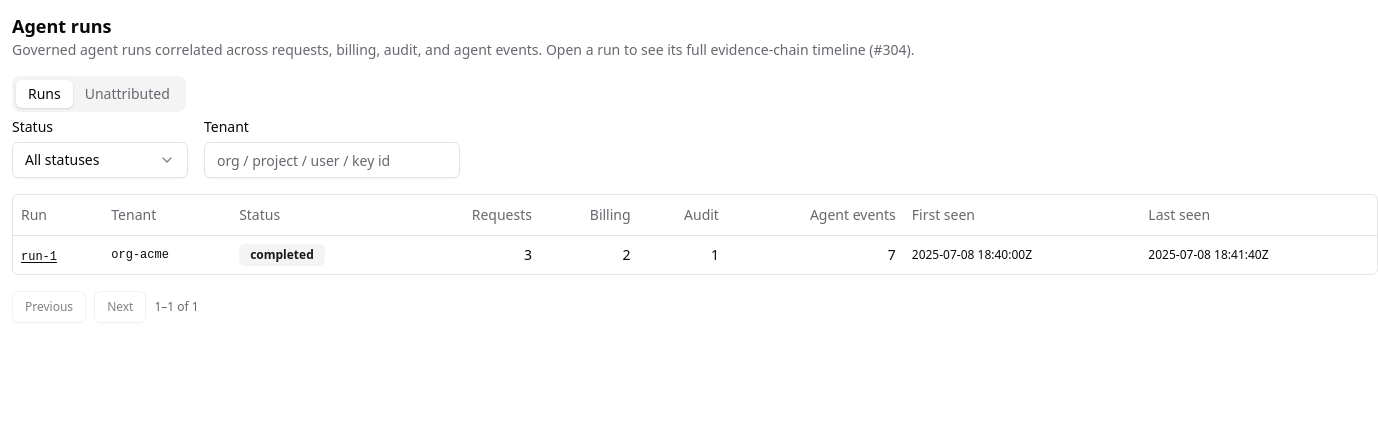
Scenario: AgentRunsPage — unattributed activity › renders an undecidable row as unknown, never as inactive
Click the tab "Unattributed": [127, 94] box [73,80,182,108]
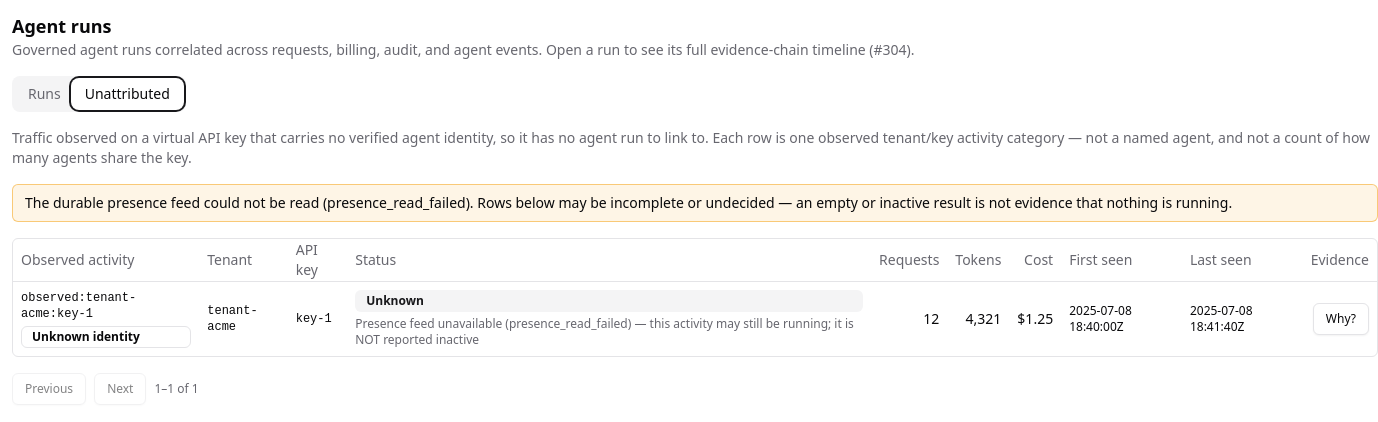
Result: the text "observed:tenant-acme:key-1" is shown at [21,291,136,321]
Result: the text "Unknown" is shown at [355,290,863,312]
Result: the text "Presence feed unavailable (presence_read_failed) — this activity may still be running; it is NOT reported inactive" is shown at [355,315,854,348]
